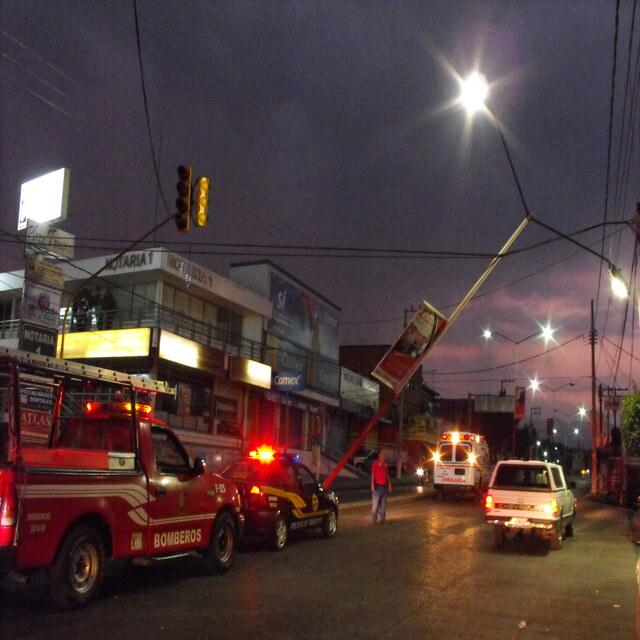Inclined Pole: (321, 70, 639, 494)
